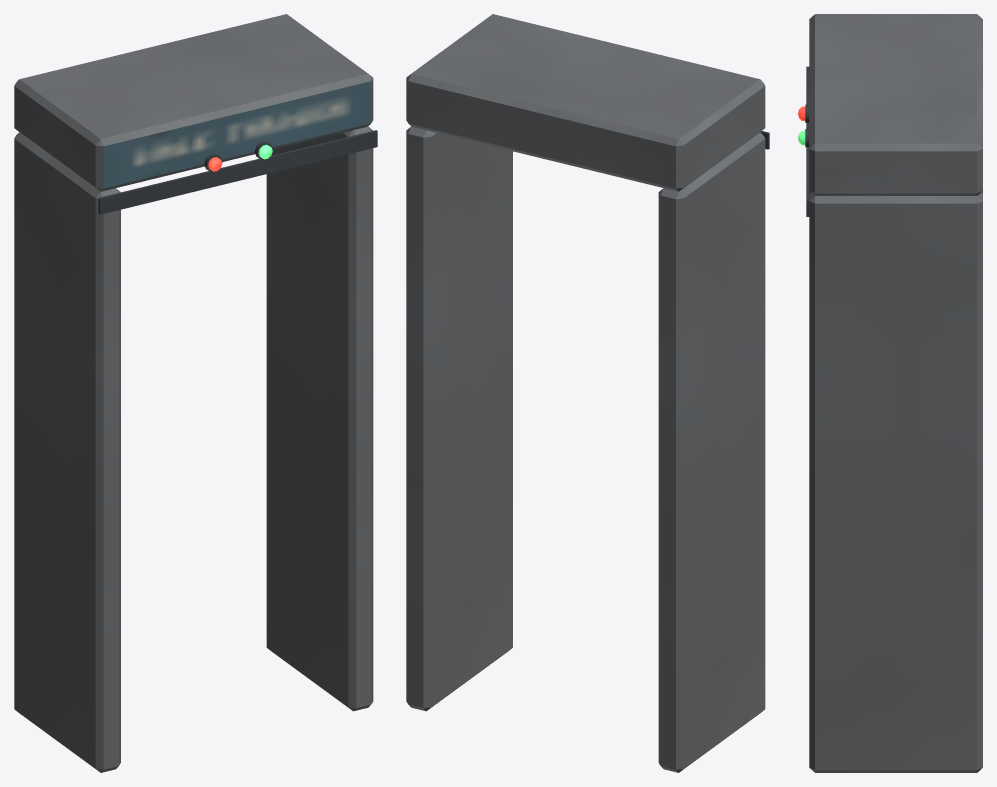
File: metal_detector.fbx
3 views of the same model, side by side, from view 1: azimuth 30°, elevation 25°; view 2: azimuth 150°, elevation 25°; view 3: azimuth 270°, elevation 25° (orthographic).
Parts seen in each view (by area): view 1: metal_detector; view 2: metal_detector; view 3: metal_detector.
Part boxes in pixels (x1=…): metal_detector: x1=14, y1=14, x2=377, y2=772; metal_detector: x1=406, y1=14, x2=769, y2=772; metal_detector: x1=805, y1=14, x2=982, y2=772.
Bounding box in the file's own units: 1.1 × 2.4 × 0.639.
Materials: 1 (1 with a texture image).
